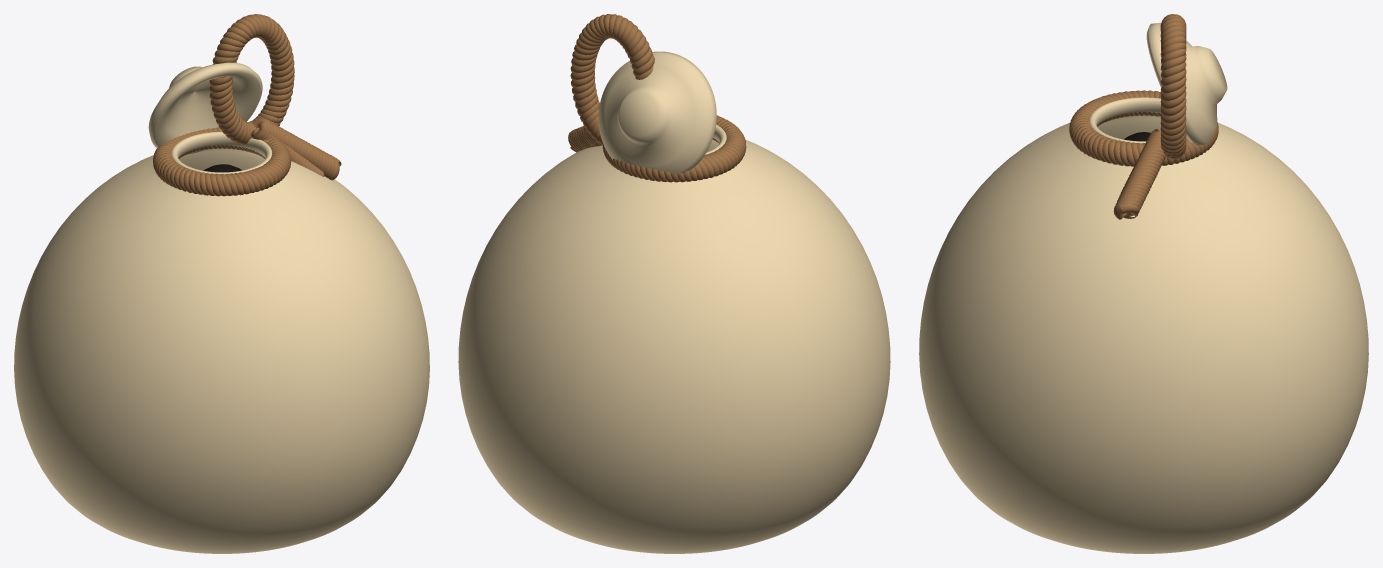
The model's file is Lid_Close.fbx.
3 views of the same model, side by side, from view 1: azimuth 30°, elevation 25°; view 2: azimuth 150°, elevation 25°; view 3: azimuth 270°, elevation 25° (orthographic). The views are drawn at different scales.
Visible parts, largest first — view 1: Body, Lid, HandleLoop_1, HandleLoop_2, HandleLoop_0, NeckRope_0, NeckRope_2, NeckRope_1, RopeTail1_0, RopeTail1_2, RopeTail1_1; view 2: Body, Lid, HandleLoop_1, HandleLoop_0, HandleLoop_2, NeckRope_2, NeckRope_0, NeckRope_1; view 3: Body, Lid, NeckRope_0, NeckRope_1, NeckRope_2, HandleLoop_0, HandleLoop_2, HandleLoop_1, RopeTail1_1, RopeTail1_2, RopeTail1_0.
Boxes of the visible parts, left/top/right/bottom form: Body: left=14, top=131, right=429, bottom=553; Lid: left=148, top=62, right=262, bottom=153; HandleLoop_1: left=209, top=14, right=294, bottom=144; HandleLoop_2: left=209, top=14, right=294, bottom=143; HandleLoop_0: left=209, top=14, right=294, bottom=141; NeckRope_0: left=153, top=128, right=291, bottom=196; NeckRope_2: left=153, top=127, right=290, bottom=196; NeckRope_1: left=153, top=128, right=290, bottom=195; RopeTail1_0: left=252, top=118, right=335, bottom=178; RopeTail1_2: left=253, top=121, right=339, bottom=180; RopeTail1_1: left=259, top=122, right=341, bottom=176; Body: left=458, top=124, right=890, bottom=553; Lid: left=598, top=51, right=716, bottom=174; HandleLoop_1: left=570, top=14, right=654, bottom=145; HandleLoop_0: left=571, top=14, right=653, bottom=143; HandleLoop_2: left=570, top=14, right=652, bottom=138; NeckRope_2: left=603, top=117, right=746, bottom=182; NeckRope_0: left=602, top=119, right=745, bottom=182; NeckRope_1: left=604, top=115, right=745, bottom=182; Body: left=919, top=97, right=1368, bottom=553; Lid: left=1146, top=22, right=1227, bottom=145; NeckRope_0: left=1069, top=90, right=1218, bottom=166; NeckRope_1: left=1069, top=90, right=1218, bottom=165; NeckRope_2: left=1069, top=90, right=1218, bottom=166; HandleLoop_0: left=1160, top=15, right=1186, bottom=159; HandleLoop_2: left=1160, top=14, right=1186, bottom=158; HandleLoop_1: left=1160, top=14, right=1186, bottom=156; RopeTail1_1: left=1117, top=129, right=1164, bottom=215; RopeTail1_2: left=1113, top=134, right=1164, bottom=219; RopeTail1_0: left=1115, top=130, right=1165, bottom=218.
Size of the model in its own units: 198 by 251 by 198.
